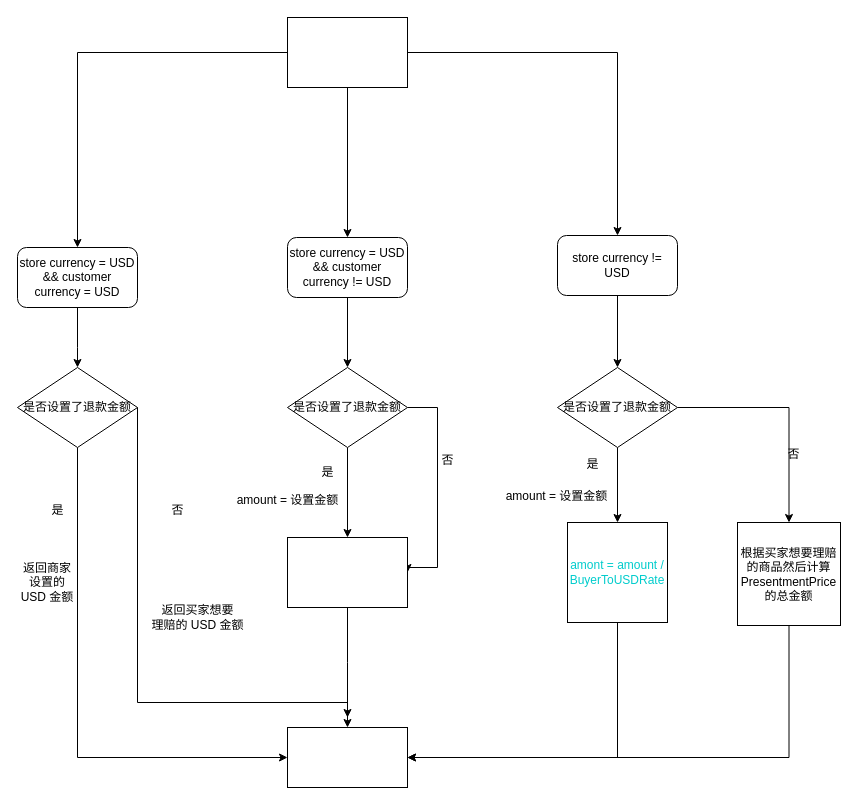
Some shapes in this 858 by 805 pixel diagram are drawn without their labels. Here are the shapes that lost their labels. From the top down, the centre of each, then its label:
(347,52): generate refund amount
(347,572): rate = presentmentPrice / unitPrice amount = amount * rate
(347,757): refund amount
